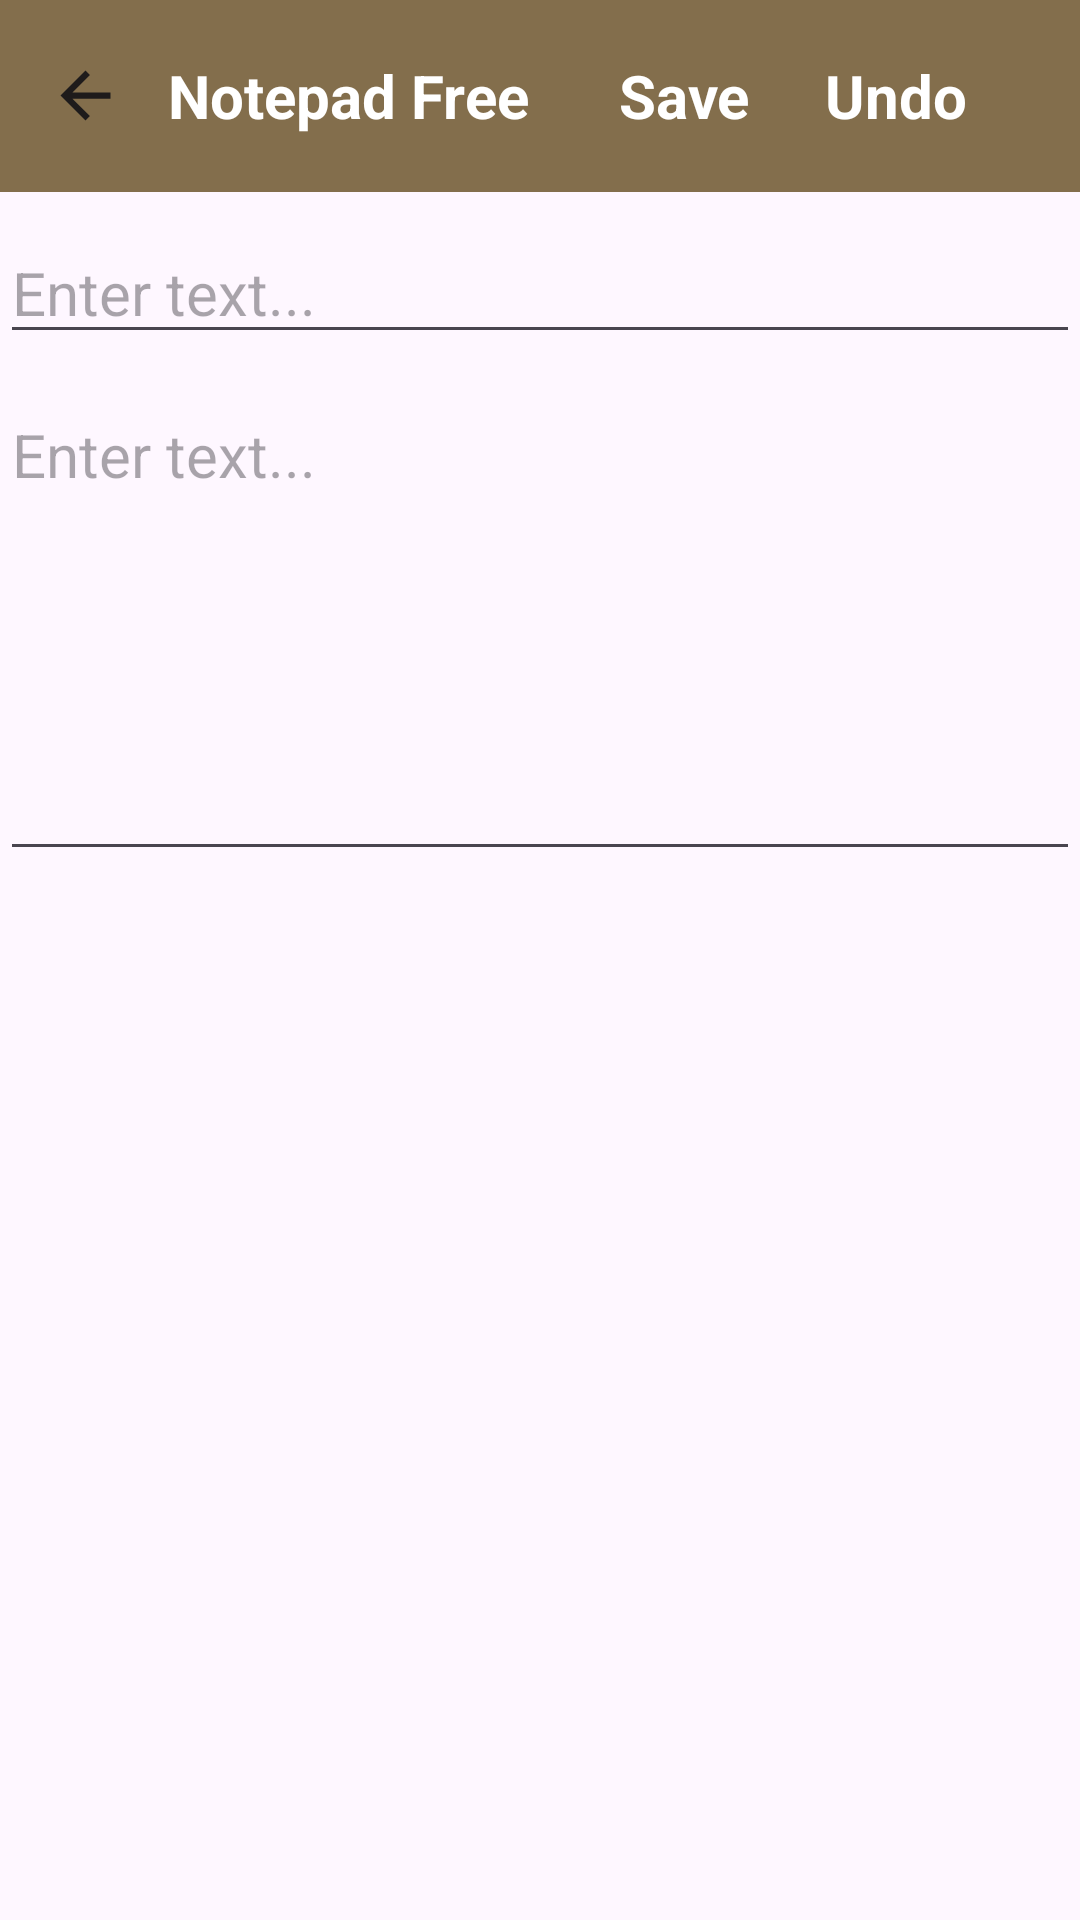

Where to tap for icons on this 1080×1920 app screen, as (x=x, y=y):
arrow back: (x=85, y=95)
